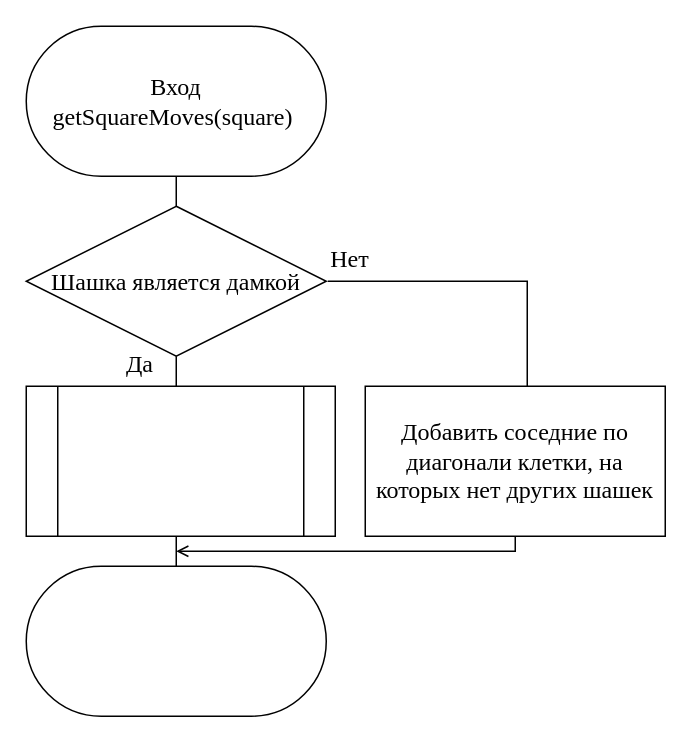
Image size: 692x743. Some labels were removed from this diagram. Here are the shapes that lost their labels. From the top down, the centre of each, then its label:
At point (180, 460): "Вернуть доступные для дамки ходы".
At point (175, 640): "Выход getSquareMoves(square)".
